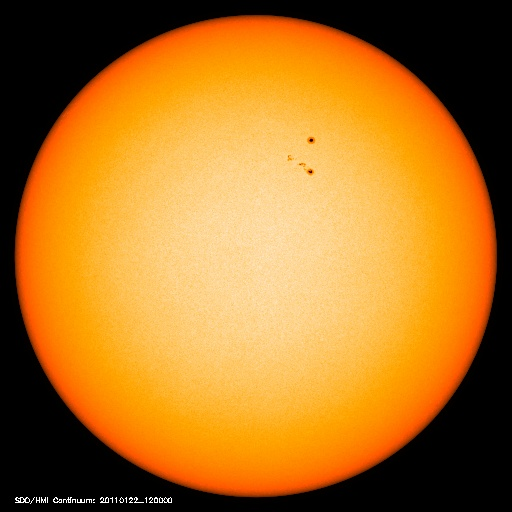sunspot: (282, 130, 325, 180)
